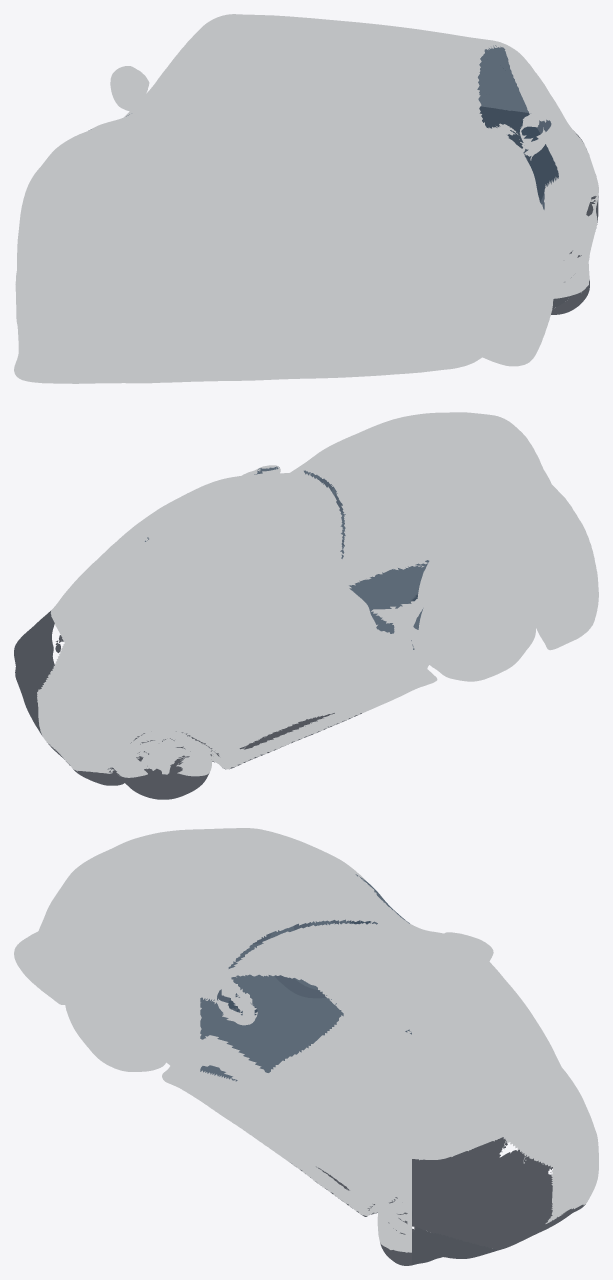
The model's file is bmwm4g82gt4.glb.
3 renders of one model, top to bottom at view 1: azimuth 30°, elevation 25°; view 2: azimuth 150°, elevation 25°; view 3: azimuth 270°, elevation 25°, orthographic. The views are drawn at different scales.
Parts seen in each view (by area): view 1: body, glass, tire; view 2: body, carbon, glass, tire; view 3: body, carbon, glass, tire.
Part boxes in pixels (x1=…): body: x1=14, y1=14, x2=598, y2=383; glass: x1=88, y1=45, x2=558, y2=209; tire: x1=480, y1=106, x2=598, y2=308; body: x1=37, y1=412, x2=598, y2=777; carbon: x1=48, y1=635, x2=361, y2=799; glass: x1=145, y1=466, x2=429, y2=649; tire: x1=14, y1=611, x2=60, y2=734; body: x1=14, y1=828, x2=598, y2=1252; carbon: x1=291, y1=1137, x2=585, y2=1265; glass: x1=200, y1=874, x2=411, y2=1081; tire: x1=412, y1=1210, x2=500, y2=1265.
Bounding box in the file's own units: 1.9 × 1.03 × 1.96.
